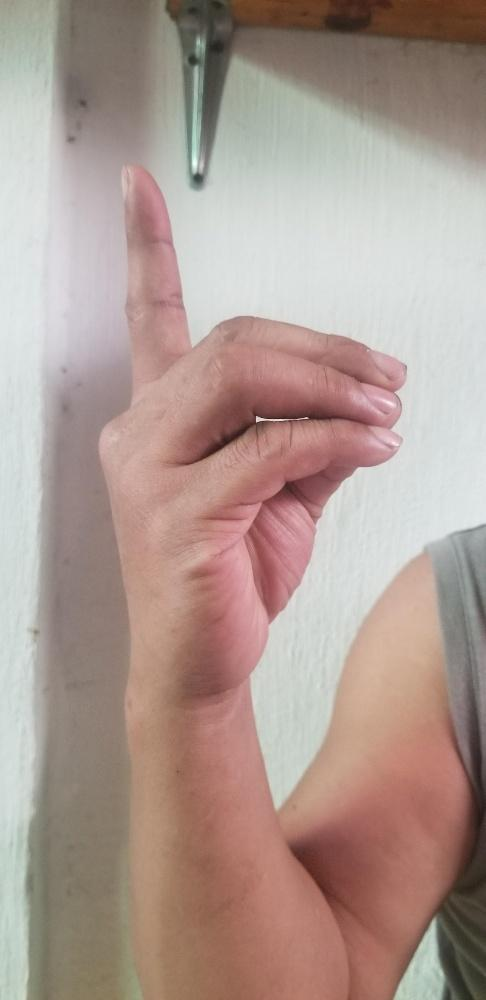d: (100, 163, 405, 685)
